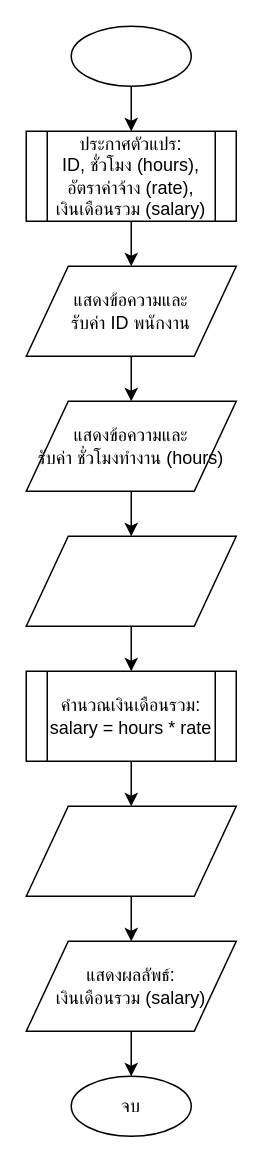
Some shapes in this 263 by 1163 pixel diagram are drawn without their labels. Here are the shapes that lost their labels. From the top down, the centre of each, then its label:
At (x=130, y=55): "เริ่ม".
At (x=130, y=580): "แสดงข้อความและ รับค่า อัตราค่าจ้าง (rate)".
At (x=130, y=850): "แสดงผลลัพธ์: ID พนักงาน".
